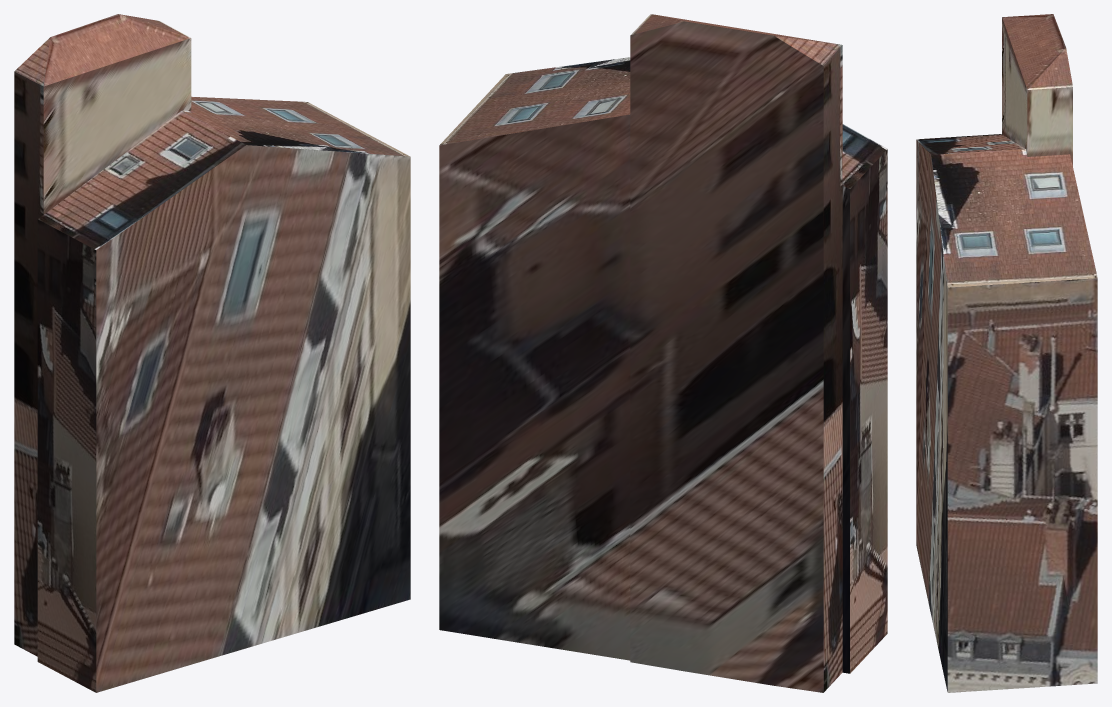
3 renders of one model, left to right at view 1: azimuth 30°, elevation 25°; view 2: azimuth 150°, elevation 25°; view 3: azimuth 270°, elevation 25°, orthographic. The views are drawn at different scales.
Parts seen in each view (by area): view 1: Z_UP; view 2: Z_UP; view 3: Z_UP.
Part boxes in pixels (left/top/right/bottom): Z_UP: left=14, top=14, right=410, bottom=692; Z_UP: left=439, top=14, right=887, bottom=692; Z_UP: left=916, top=14, right=1097, bottom=692.
Bounding box in the file's own units: 16.6 × 27.4 × 8.29.
2 materials, 1 textured.
